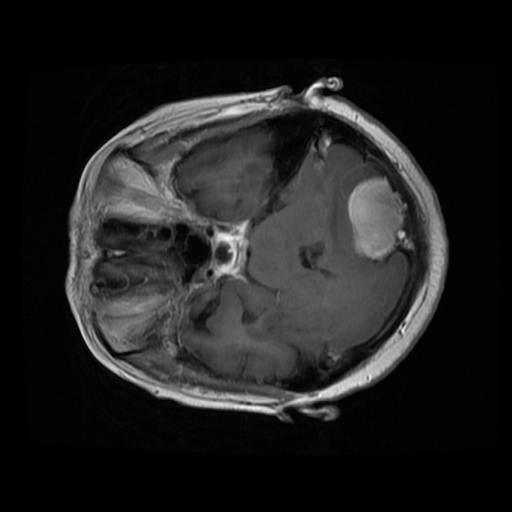meningioma: (347, 176, 415, 260)
